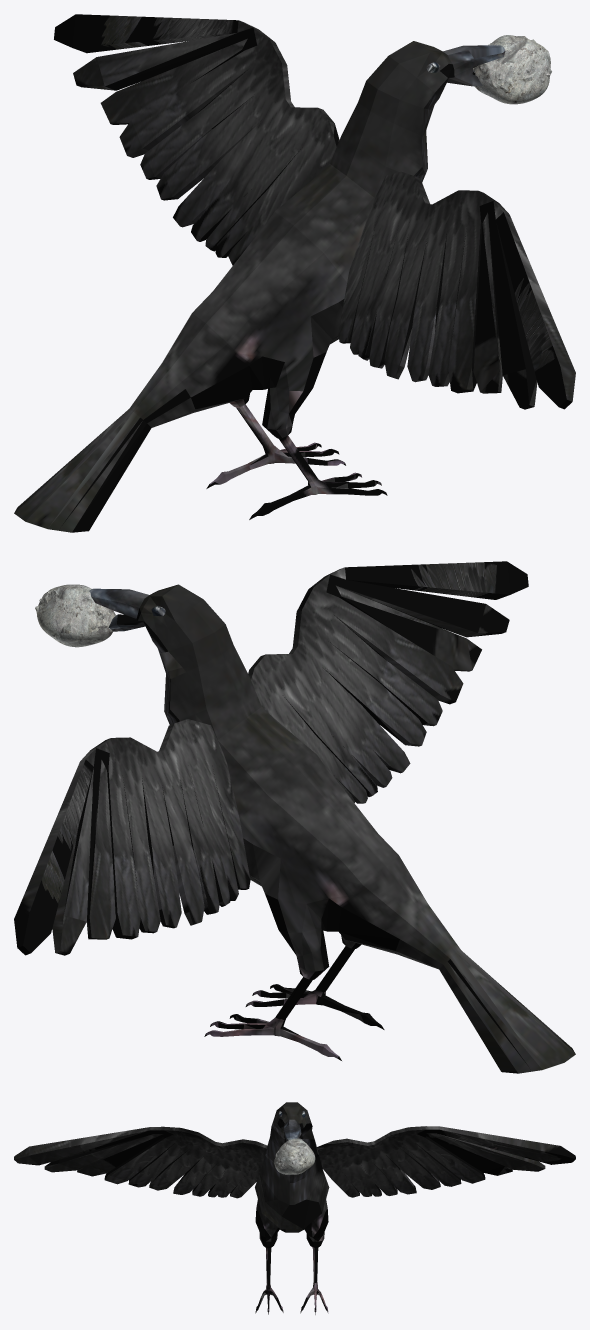
File: crowTextureAnimPebble_000002.obj
3 views of the same model, one above another, from view 1: azimuth 30°, elevation 25°; view 2: azimuth 150°, elevation 25°; view 3: azimuth 270°, elevation 25° (orthographic). The views are drawn at different scales.
Visible parts, largest first — view 1: Cylinder.001, Cylinder.002, Cylinder.003, Icosphere_Icosphere.002; view 2: Cylinder.001, Cylinder.003, Cylinder.002, Icosphere_Icosphere.002; view 3: Cylinder.002, Cylinder.003, Cylinder.001, Icosphere_Icosphere.002.
Part boxes in pixels (left/top/right/bottom): Cylinder.001: left=14, top=41, right=505, bottom=532; Cylinder.002: left=54, top=14, right=339, bottom=265; Cylinder.003: left=338, top=171, right=575, bottom=409; Icosphere_Icosphere.002: left=473, top=35, right=551, bottom=104; Cylinder.001: left=89, top=584, right=575, bottom=1073; Cylinder.003: left=248, top=561, right=528, bottom=803; Cylinder.002: left=14, top=719, right=250, bottom=955; Icosphere_Icosphere.002: left=35, top=584, right=116, bottom=647; Cylinder.002: left=317, top=1126, right=575, bottom=1197; Cylinder.003: left=14, top=1126, right=267, bottom=1198; Cylinder.001: left=255, top=1102, right=329, bottom=1314; Icosphere_Icosphere.002: left=274, top=1138, right=315, bottom=1174.
Bounding box in the file's own units: 5.55 × 4.1 × 9.22.
